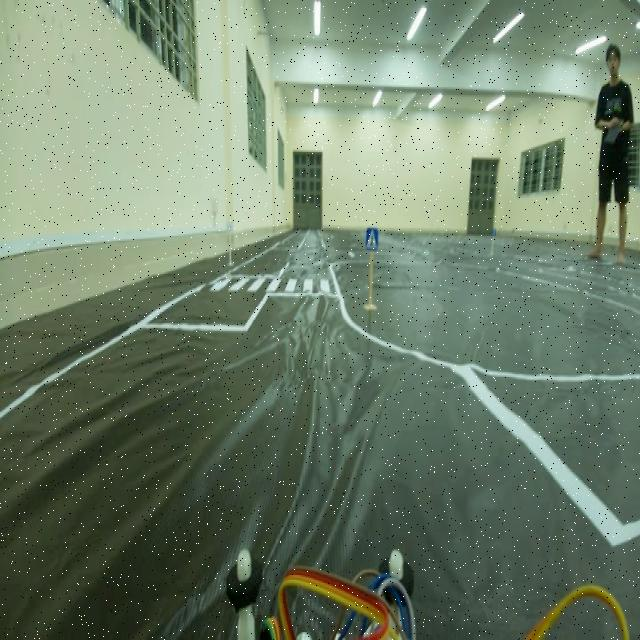crosswalk: (361, 223, 383, 257)
